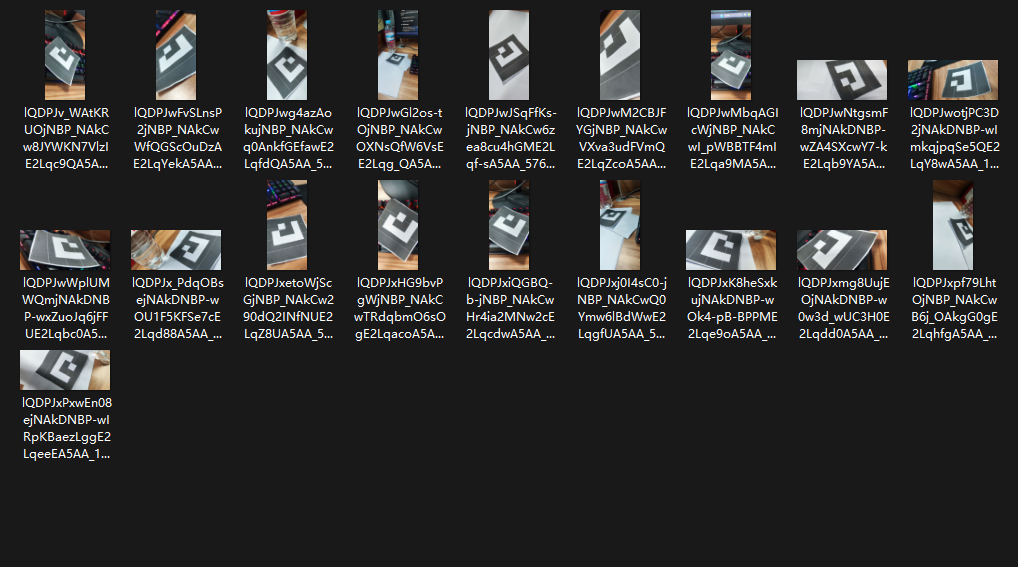mark1: (600, 17, 640, 80), (813, 230, 852, 269), (158, 33, 193, 72), (701, 230, 735, 264), (384, 212, 417, 244), (834, 62, 866, 91), (494, 40, 524, 68), (275, 56, 304, 84), (50, 352, 77, 382), (493, 213, 526, 237), (181, 235, 209, 263), (47, 45, 75, 72), (272, 221, 302, 246), (51, 236, 83, 259), (718, 55, 745, 76), (950, 68, 973, 92), (956, 222, 972, 240), (603, 210, 622, 222), (389, 52, 403, 64)
